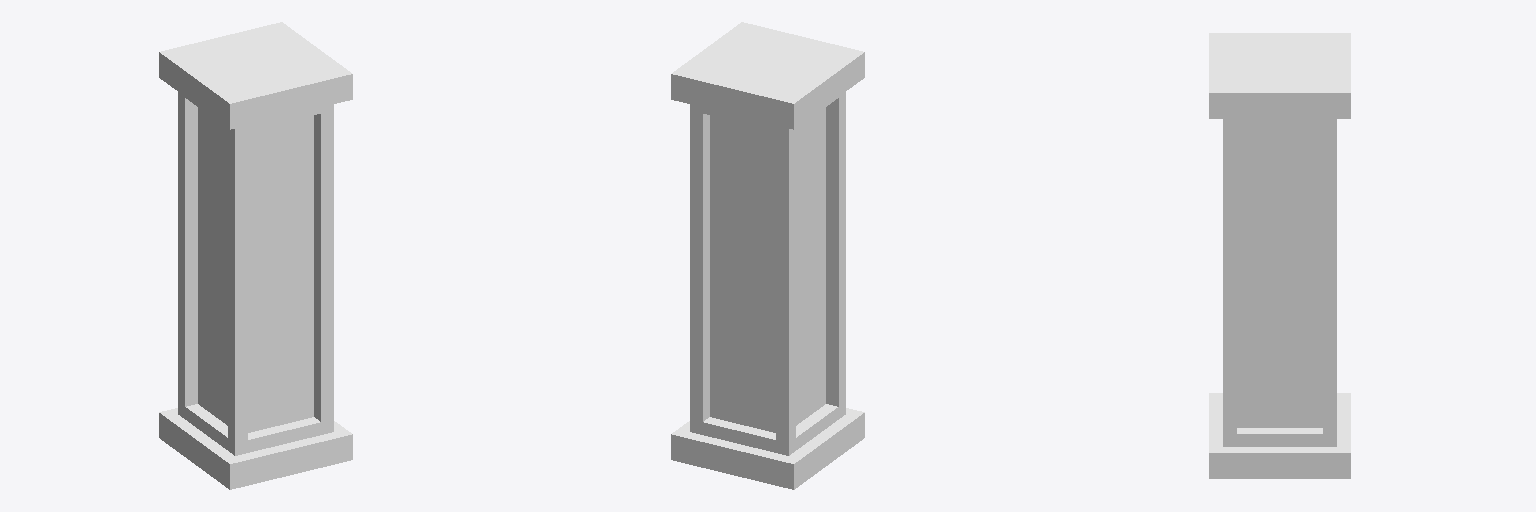
The model's file is pillar_10_30_10.obj.
3 renders of one model, left to right at view 1: azimuth 30°, elevation 25°; view 2: azimuth 150°, elevation 25°; view 3: azimuth 270°, elevation 25°, orthographic.
Parts seen in each view (by area): view 1: object 1; view 2: object 1; view 3: object 1.
Boxes of the visible parts, box(x1,y1,x2,y2) form: object 1: box(159, 22, 352, 489); object 1: box(671, 22, 864, 489); object 1: box(1209, 33, 1350, 478).
Size of the model in its own units: 1 by 3 by 1.